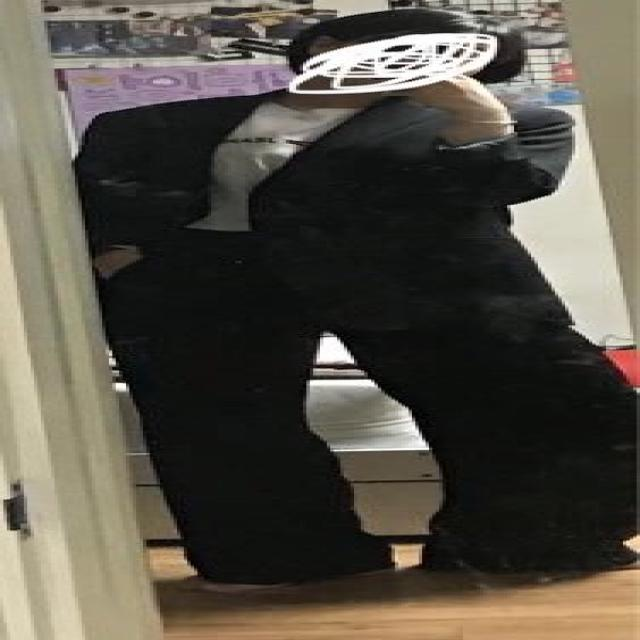blazer: (75, 85, 570, 285)
slacks: (96, 223, 640, 580)
